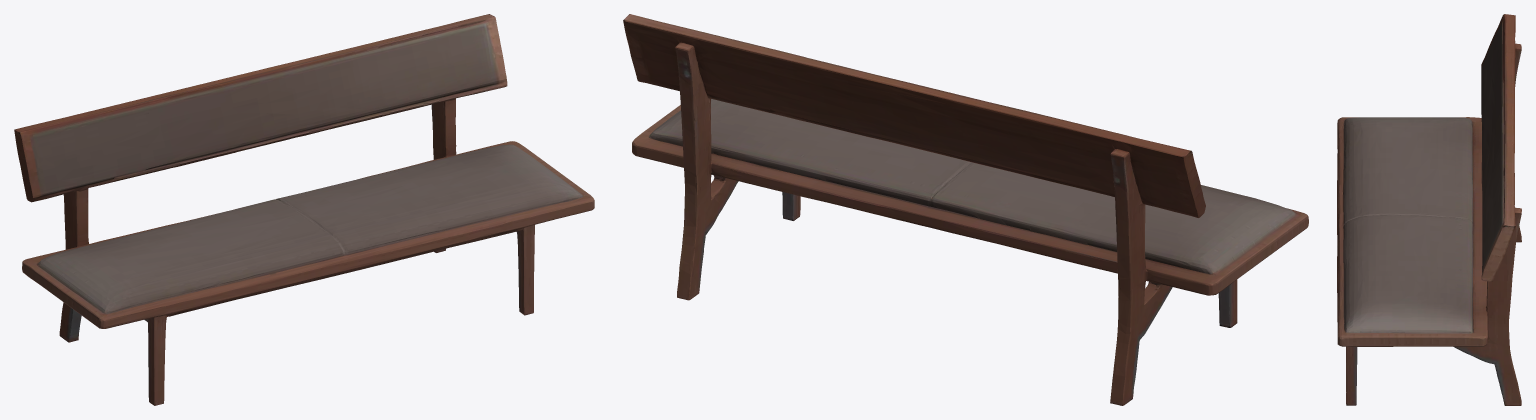
Rendered from b907334d-9727-46a6-875d-491f9eeb5880.glb.
3 views of the same model, side by side, from view 1: azimuth 30°, elevation 25°; view 2: azimuth 150°, elevation 25°; view 3: azimuth 270°, elevation 25° (orthographic). The views are drawn at different scales.
Parts seen in each view (by area): view 1: world; view 2: world; view 3: world.
Part boxes in pixels (x1,y1,x2,y2): world: (14,14,594,405); world: (623,14,1308,405); world: (1337,14,1521,405).
Bounding box in the file's own units: 1 × 0.4292 × 0.3549.
Materials: 1 (1 with a texture image).
